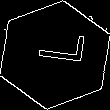L_W: (26, 36, 84, 74)
